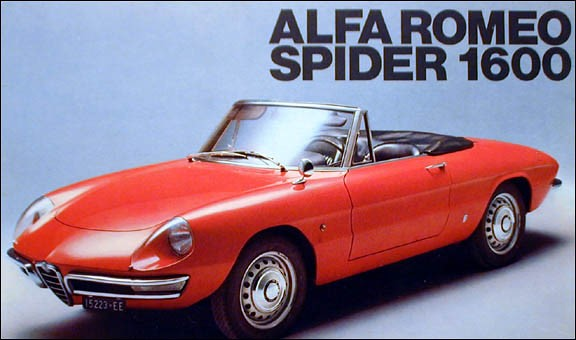car: (9, 98, 562, 334)
